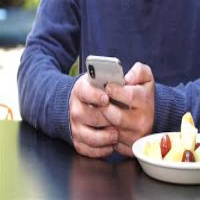ring: (75, 122, 117, 146), (114, 125, 141, 146)
